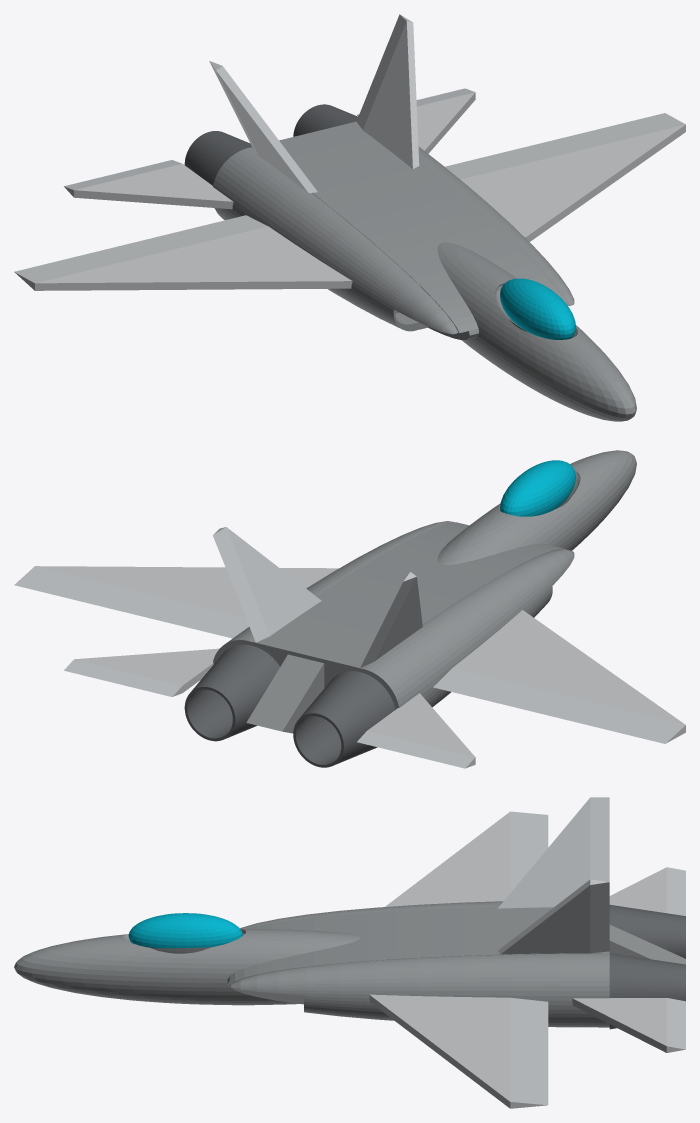
3 renders of one model, top to bottom at view 1: azimuth 30°, elevation 25°; view 2: azimuth 150°, elevation 25°; view 3: azimuth 270°, elevation 25°, orthographic. The views are drawn at different scales.
Parts seen in each view (by area): view 1: Mesh_Mesh_head_geo.001_lambert2SG.001; view 2: Mesh_Mesh_head_geo.001_lambert2SG.001; view 3: Mesh_Mesh_head_geo.001_lambert2SG.001.
Part boxes in pixels (x1,y1,x2,y2): Mesh_Mesh_head_geo.001_lambert2SG.001: (14,14,685,421); Mesh_Mesh_head_geo.001_lambert2SG.001: (14,450,685,768); Mesh_Mesh_head_geo.001_lambert2SG.001: (14,797,685,1108).
Bounding box in the file's own units: 180 × 47.01 × 176.
